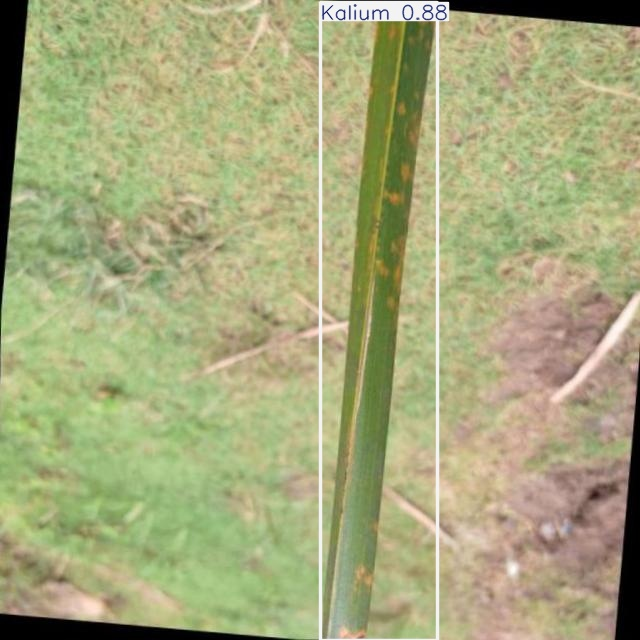Kalium: (320, 2, 437, 640)
